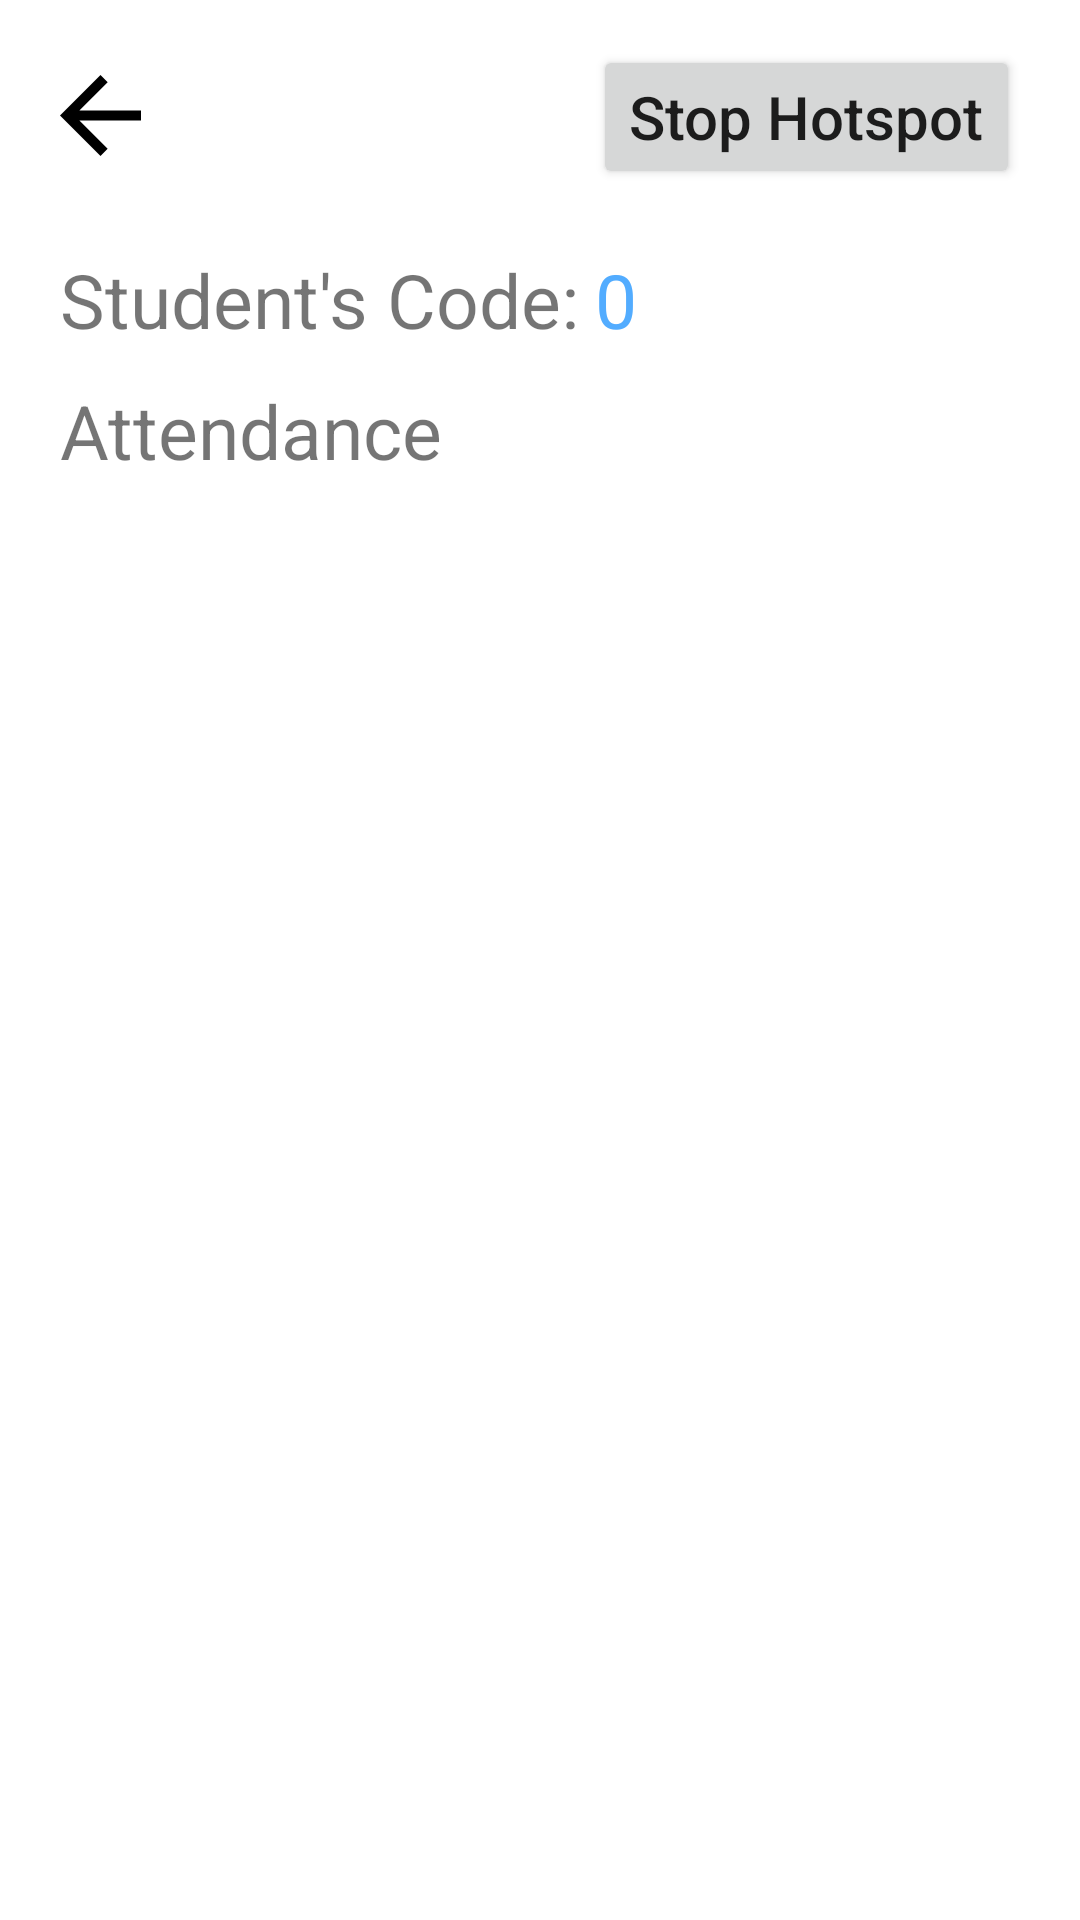

Icons on this 1080*1920 Android screen, each with the point to tap as (x,y):
back: (100,115)
